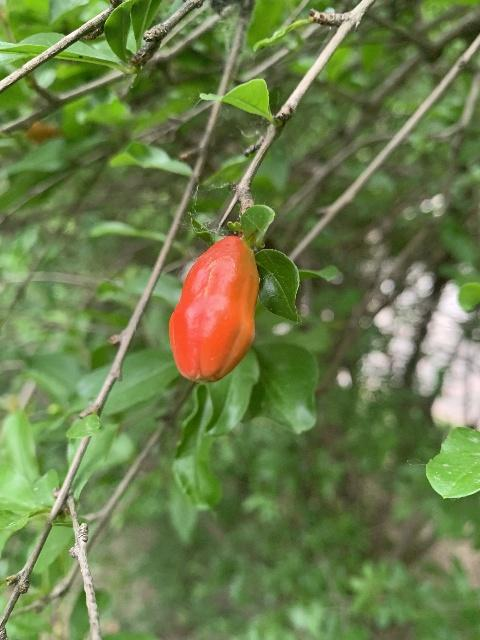bud: (169, 234, 259, 383)
